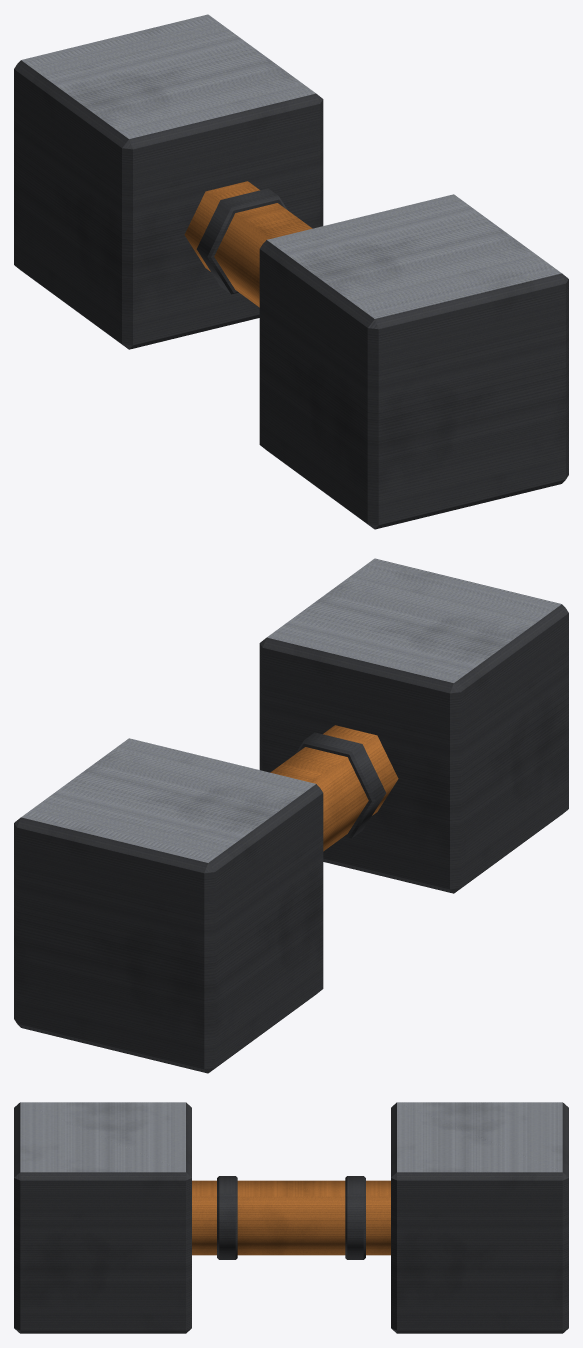
The model's file is R4C_STRUT_STANDARD_LOD1.glb.
3 renders of one model, top to bottom at view 1: azimuth 30°, elevation 25°; view 2: azimuth 150°, elevation 25°; view 3: azimuth 270°, elevation 25°, orthographic. The views are drawn at different scales.
Visible parts, largest first — view 1: R4C_STRUT_STANDARD_LOD1; view 2: R4C_STRUT_STANDARD_LOD1; view 3: R4C_STRUT_STANDARD_LOD1.
Boxes of the visible parts, <box> form: R4C_STRUT_STANDARD_LOD1: <box>14,14,568,529</box>; R4C_STRUT_STANDARD_LOD1: <box>14,558,568,1073</box>; R4C_STRUT_STANDARD_LOD1: <box>14,1102,568,1333</box>.
Bounding box in the file's own units: 0.52 × 0.52 × 1.62.
Materials: 3 (3 with a texture image).
